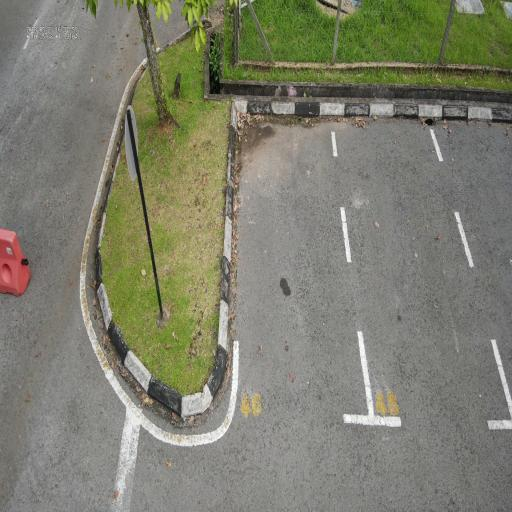Empty: (214, 104, 378, 436)
